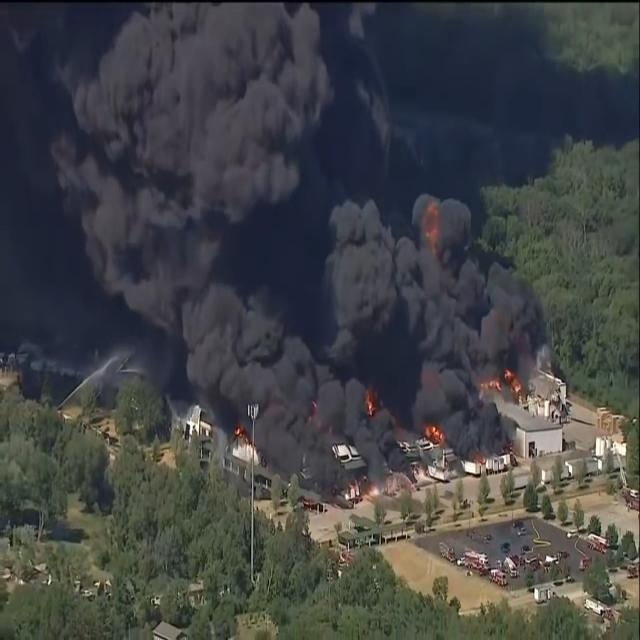Fire: (484, 362, 523, 402), (427, 199, 442, 256), (234, 419, 255, 452), (363, 386, 377, 420), (427, 424, 447, 444)
Smoke: (54, 0, 384, 313), (328, 192, 546, 454), (155, 277, 398, 503)
